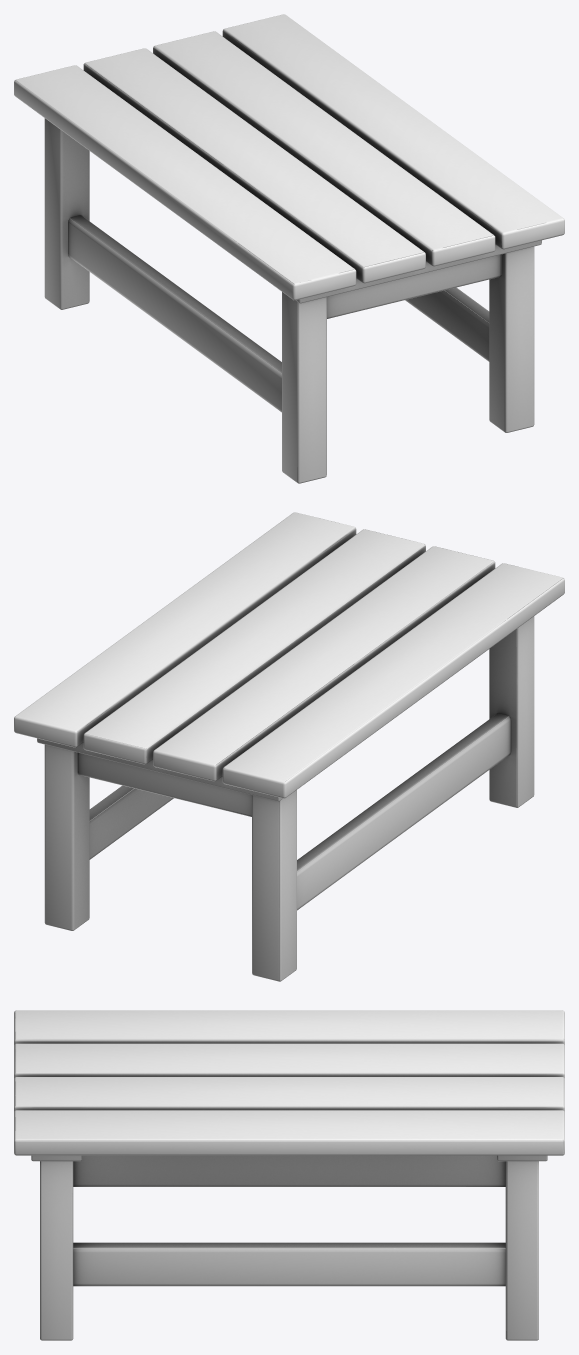
Rendered from Table.obj.
3 renders of one model, top to bottom at view 1: azimuth 30°, elevation 25°; view 2: azimuth 150°, elevation 25°; view 3: azimuth 270°, elevation 25°, orthographic.
Visible parts, largest first — view 1: Table; view 2: Table; view 3: Table.
Boxes of the visible parts, <box> form: Table: <box>14,14,564,483</box>; Table: <box>14,512,564,981</box>; Table: <box>14,1010,564,1340</box>.
Size of the model in its own units: 3.91 by 2.94 by 6.99.
